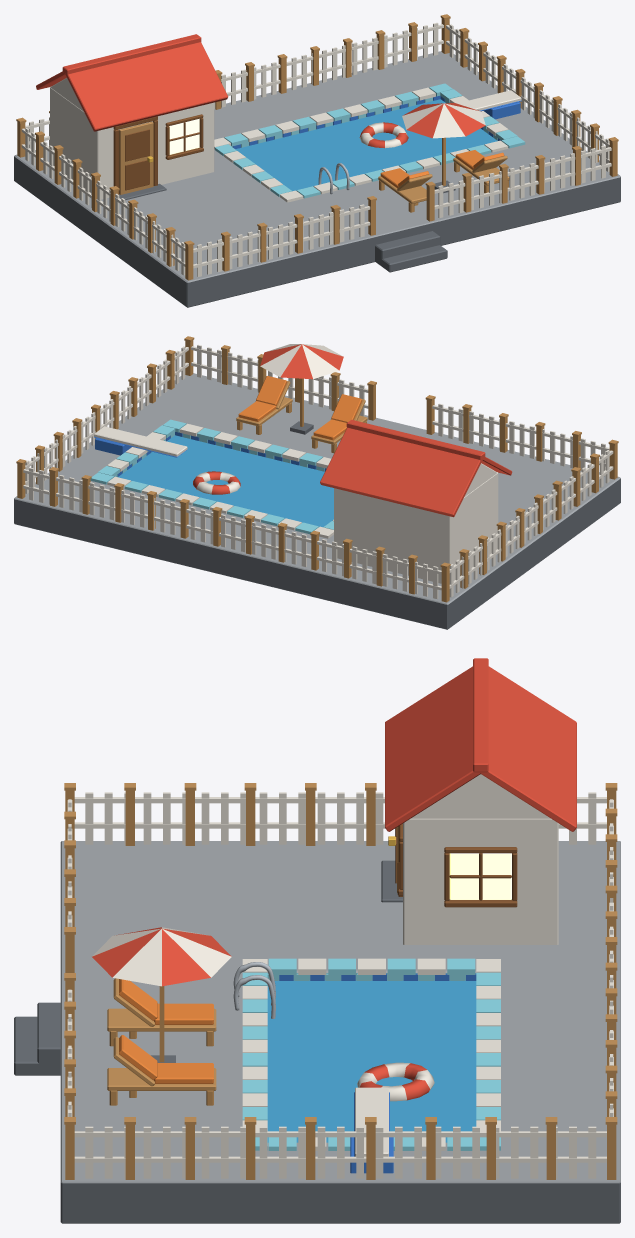
Rendered from backyard-pool-house.glb.
The picture shows the model from 3 angles, top to bottom: view 1: azimuth 30°, elevation 25°; view 2: azimuth 150°, elevation 25°; view 3: azimuth 270°, elevation 25°; orthographic projection. The views are drawn at different scales.
Parts seen in each view (by area): view 1: Deck, Fence, PoolHouse, Pool_Water, Pool_Coping, Umbrella, Door, Deck_Steps, LoungeChair_A, LoungeChair_B, DivingBoard, PoolRing; view 2: Deck, Fence, PoolHouse, Pool_Water, Pool_Coping, Umbrella, LoungeChair_B, DivingBoard, LoungeChair_A, PoolRing; view 3: Deck, PoolHouse, Fence, Pool_Water, Pool_Coping, Umbrella, LoungeChair_B, LoungeChair_A, Deck_Steps, DivingBoard, PoolRing, Ladder.
Part boxes in pixels (x1,y1,x2,y2): Deck: (14,51,620,307); Fence: (16,14,618,280); PoolHouse: (36,34,228,200); Pool_Water: (235,99,497,191); Pool_Coping: (214,83,525,202); Umbrella: (402,103,485,193); Door: (119,121,153,194); Deck_Steps: (375,231,447,272); LoungeChair_A: (378,168,432,212); LoungeChair_B: (453,150,509,193); DivingBoard: (457,90,521,119); PoolRing: (359,122,408,148); Deck: (14,373,620,629); Fence: (16,336,618,602); PoolHouse: (320,419,512,583); Pool_Water: (118,435,333,527); Pool_Coping: (90,419,333,538); Umbrella: (260,344,343,434); LoungeChair_B: (236,376,292,434); DivingBoard: (94,426,187,457); LoungeChair_A: (311,394,367,453); PoolRing: (193,471,240,494); Deck: (60,841,620,1223); PoolHouse: (381,658,576,944); Fence: (64,783,617,1179); Pool_Water: (267,980,476,1142); Pool_Coping: (242,958,500,1150); Umbrella: (92,927,231,1062); LoungeChair_B: (107,1035,216,1105); LoungeChair_A: (107,978,216,1046); Deck_Steps: (14,1002,60,1075); DivingBoard: (350,1087,393,1173); PoolRing: (357,1062,434,1101); Ladder: (233,962,275,1018).
Bounding box in the file's own units: 52 × 16.35 × 39.
